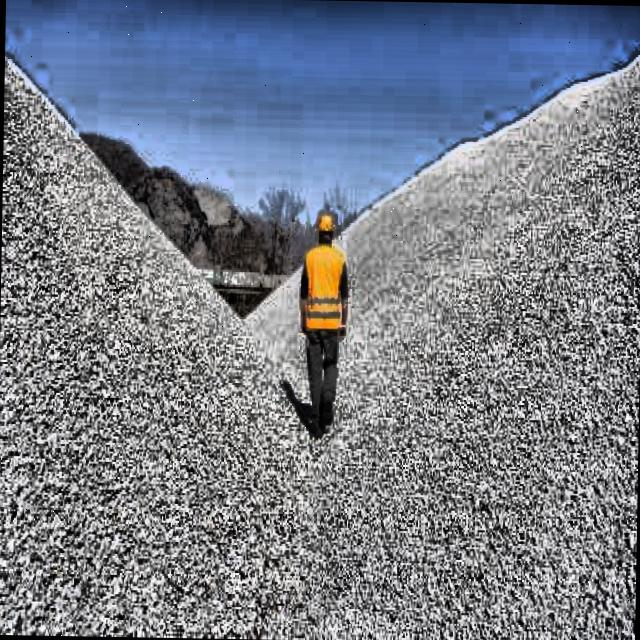helmet: (313, 205, 339, 248)
